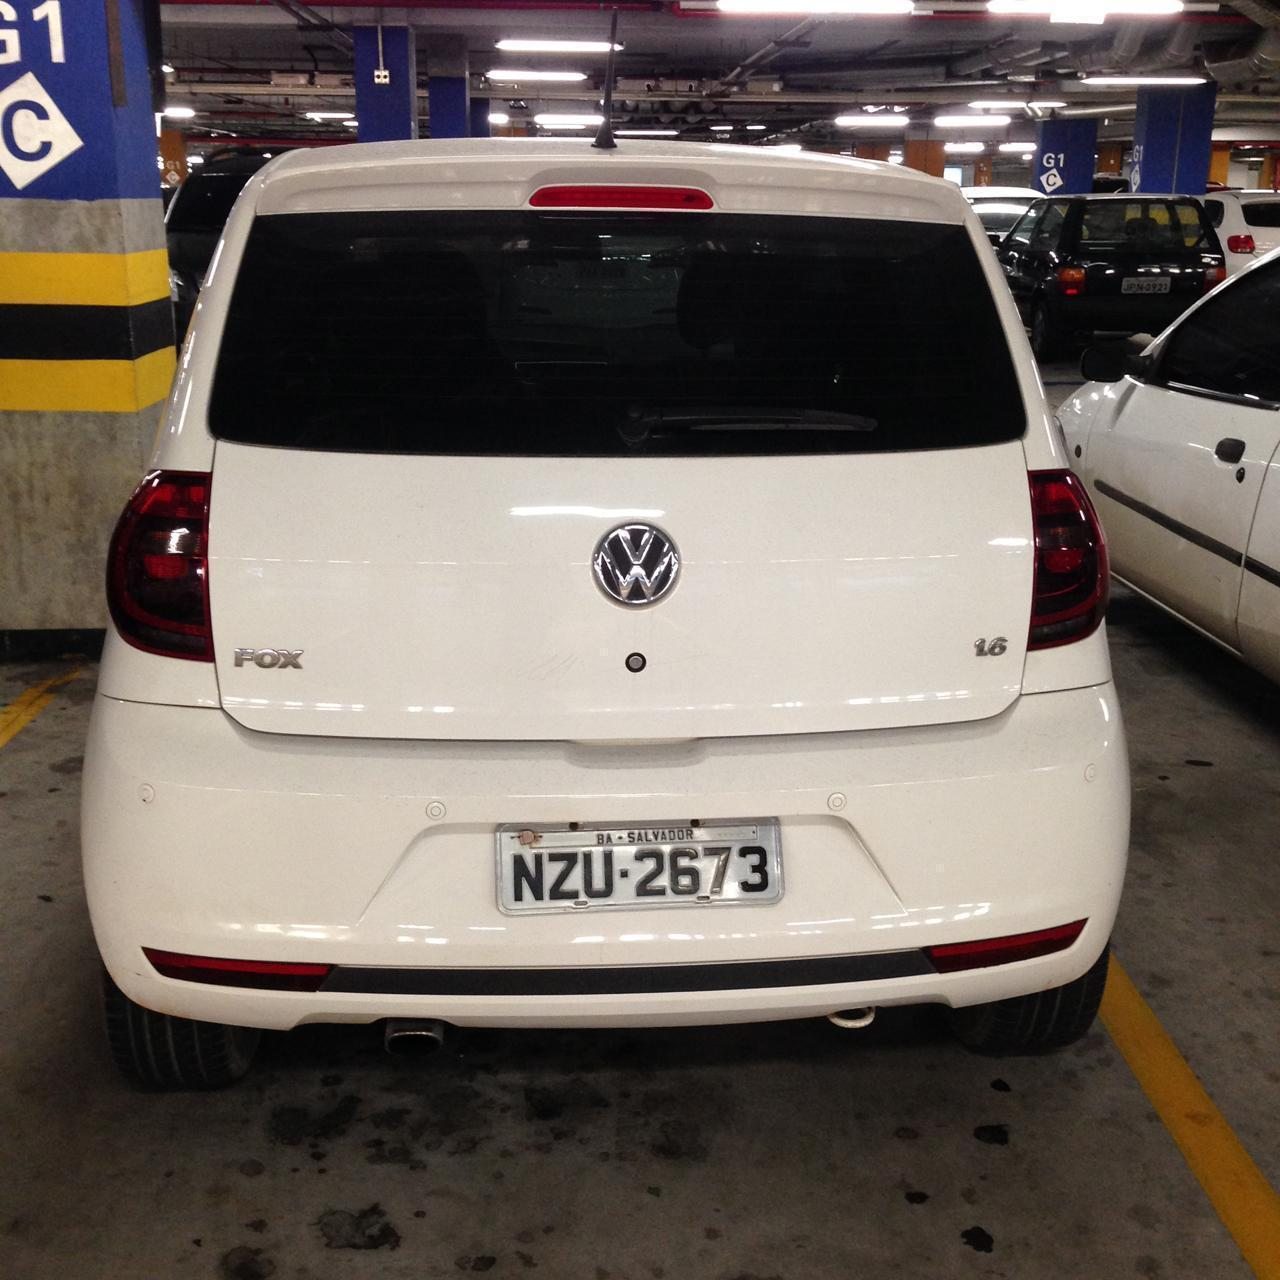placa de veiculo: (469, 787, 819, 946)
